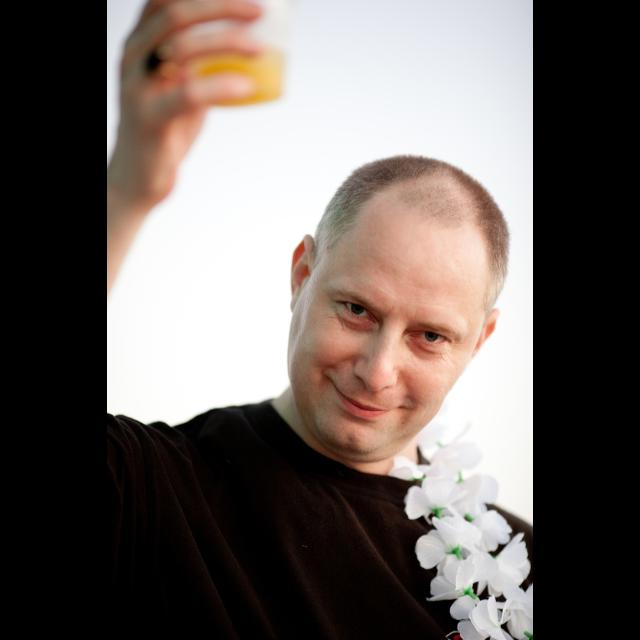Flower: (395, 412, 533, 640), (419, 510, 491, 570)
